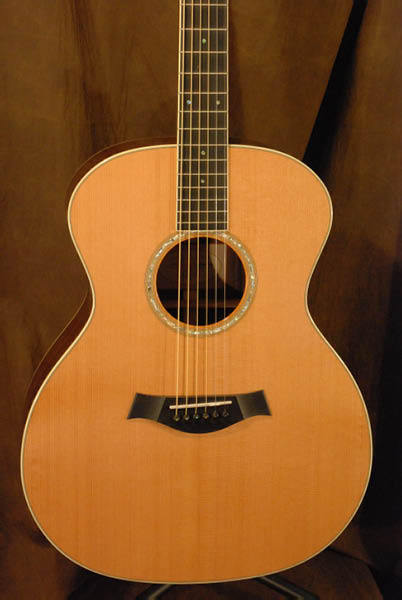guitar: (19, 1, 377, 588)
